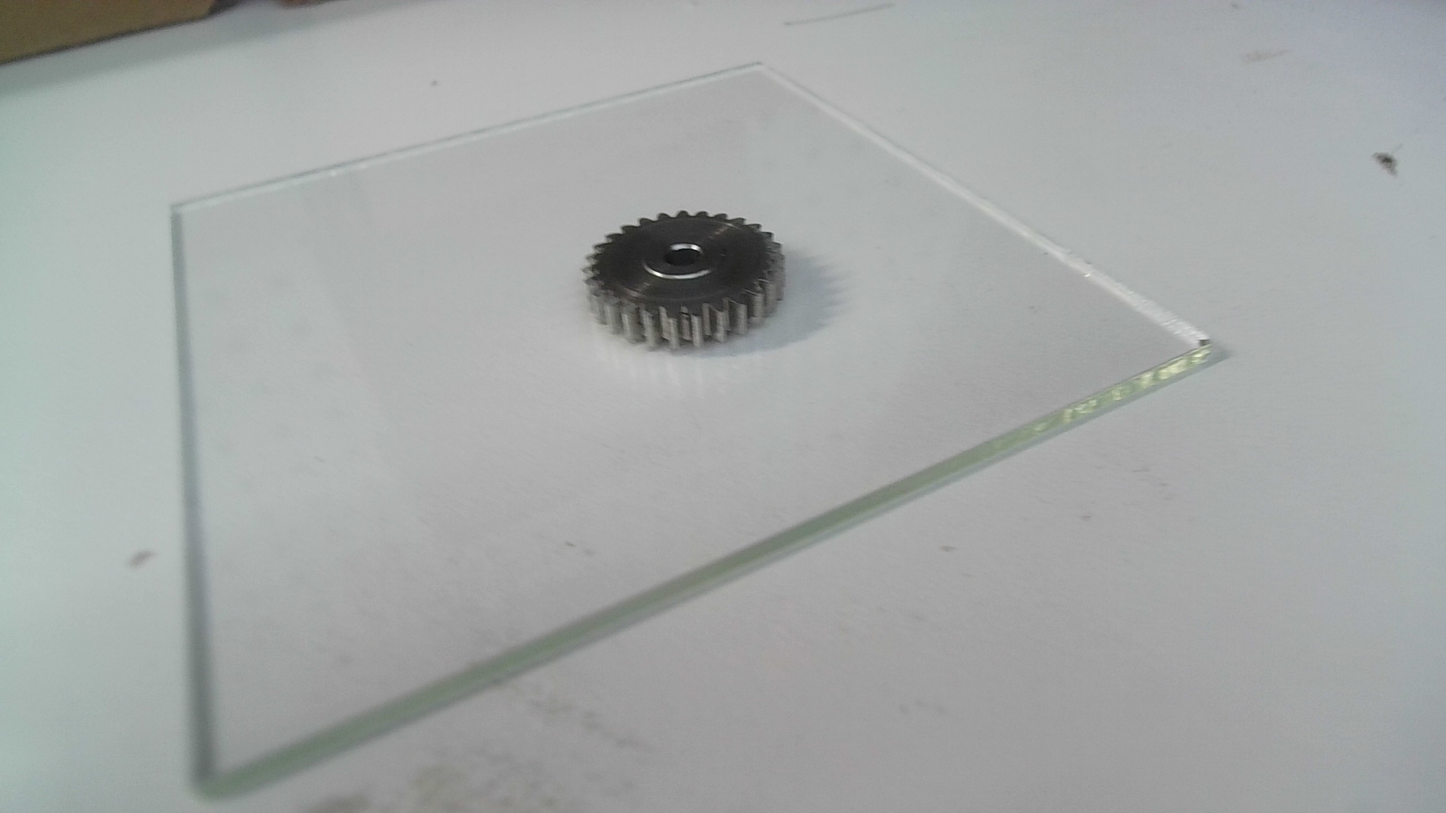gear: (578, 208, 789, 353)
